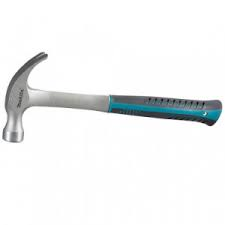martillu: (1, 50, 224, 151)
